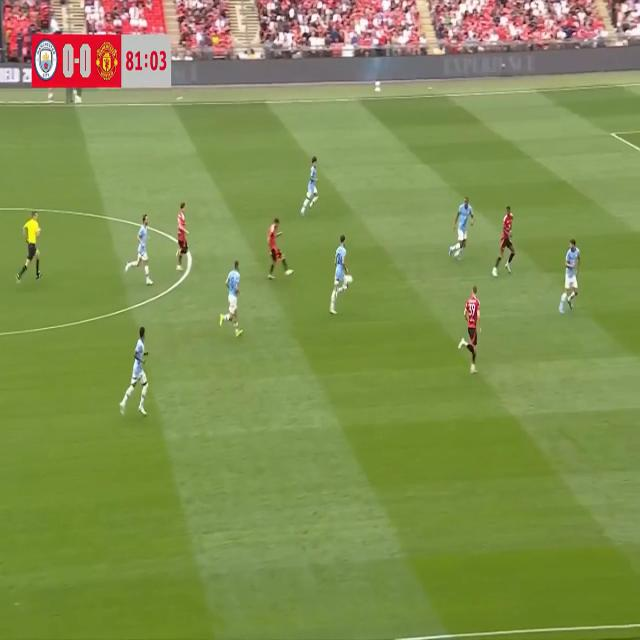ball: (346, 270, 354, 288)
players: (116, 319, 150, 424), (120, 208, 160, 292), (216, 257, 252, 347), (457, 280, 488, 382), (490, 188, 521, 289), (444, 183, 478, 270), (260, 212, 296, 290), (556, 230, 584, 320), (297, 151, 325, 219), (169, 197, 192, 277), (330, 225, 346, 318)
refree: (14, 207, 45, 286)
